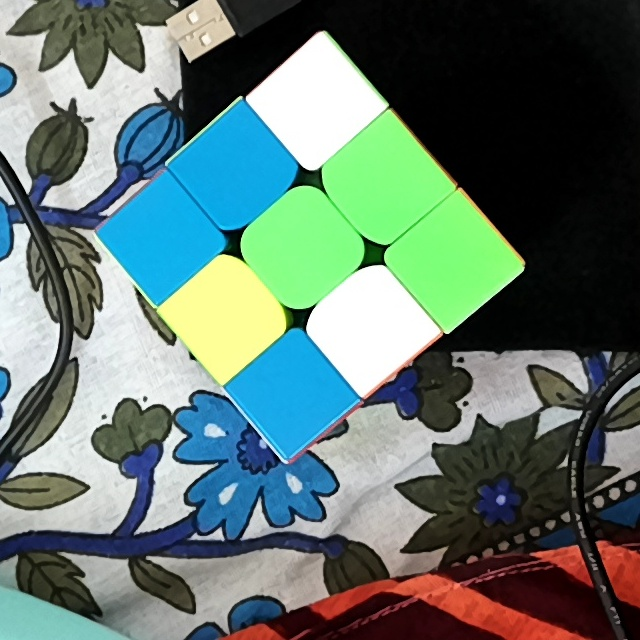tile: (349, 146, 419, 218), (418, 227, 489, 297), (266, 214, 336, 285), (204, 133, 273, 202), (284, 67, 350, 136), (335, 291, 400, 361), (260, 359, 326, 427), (131, 204, 197, 270), (194, 282, 257, 350)
